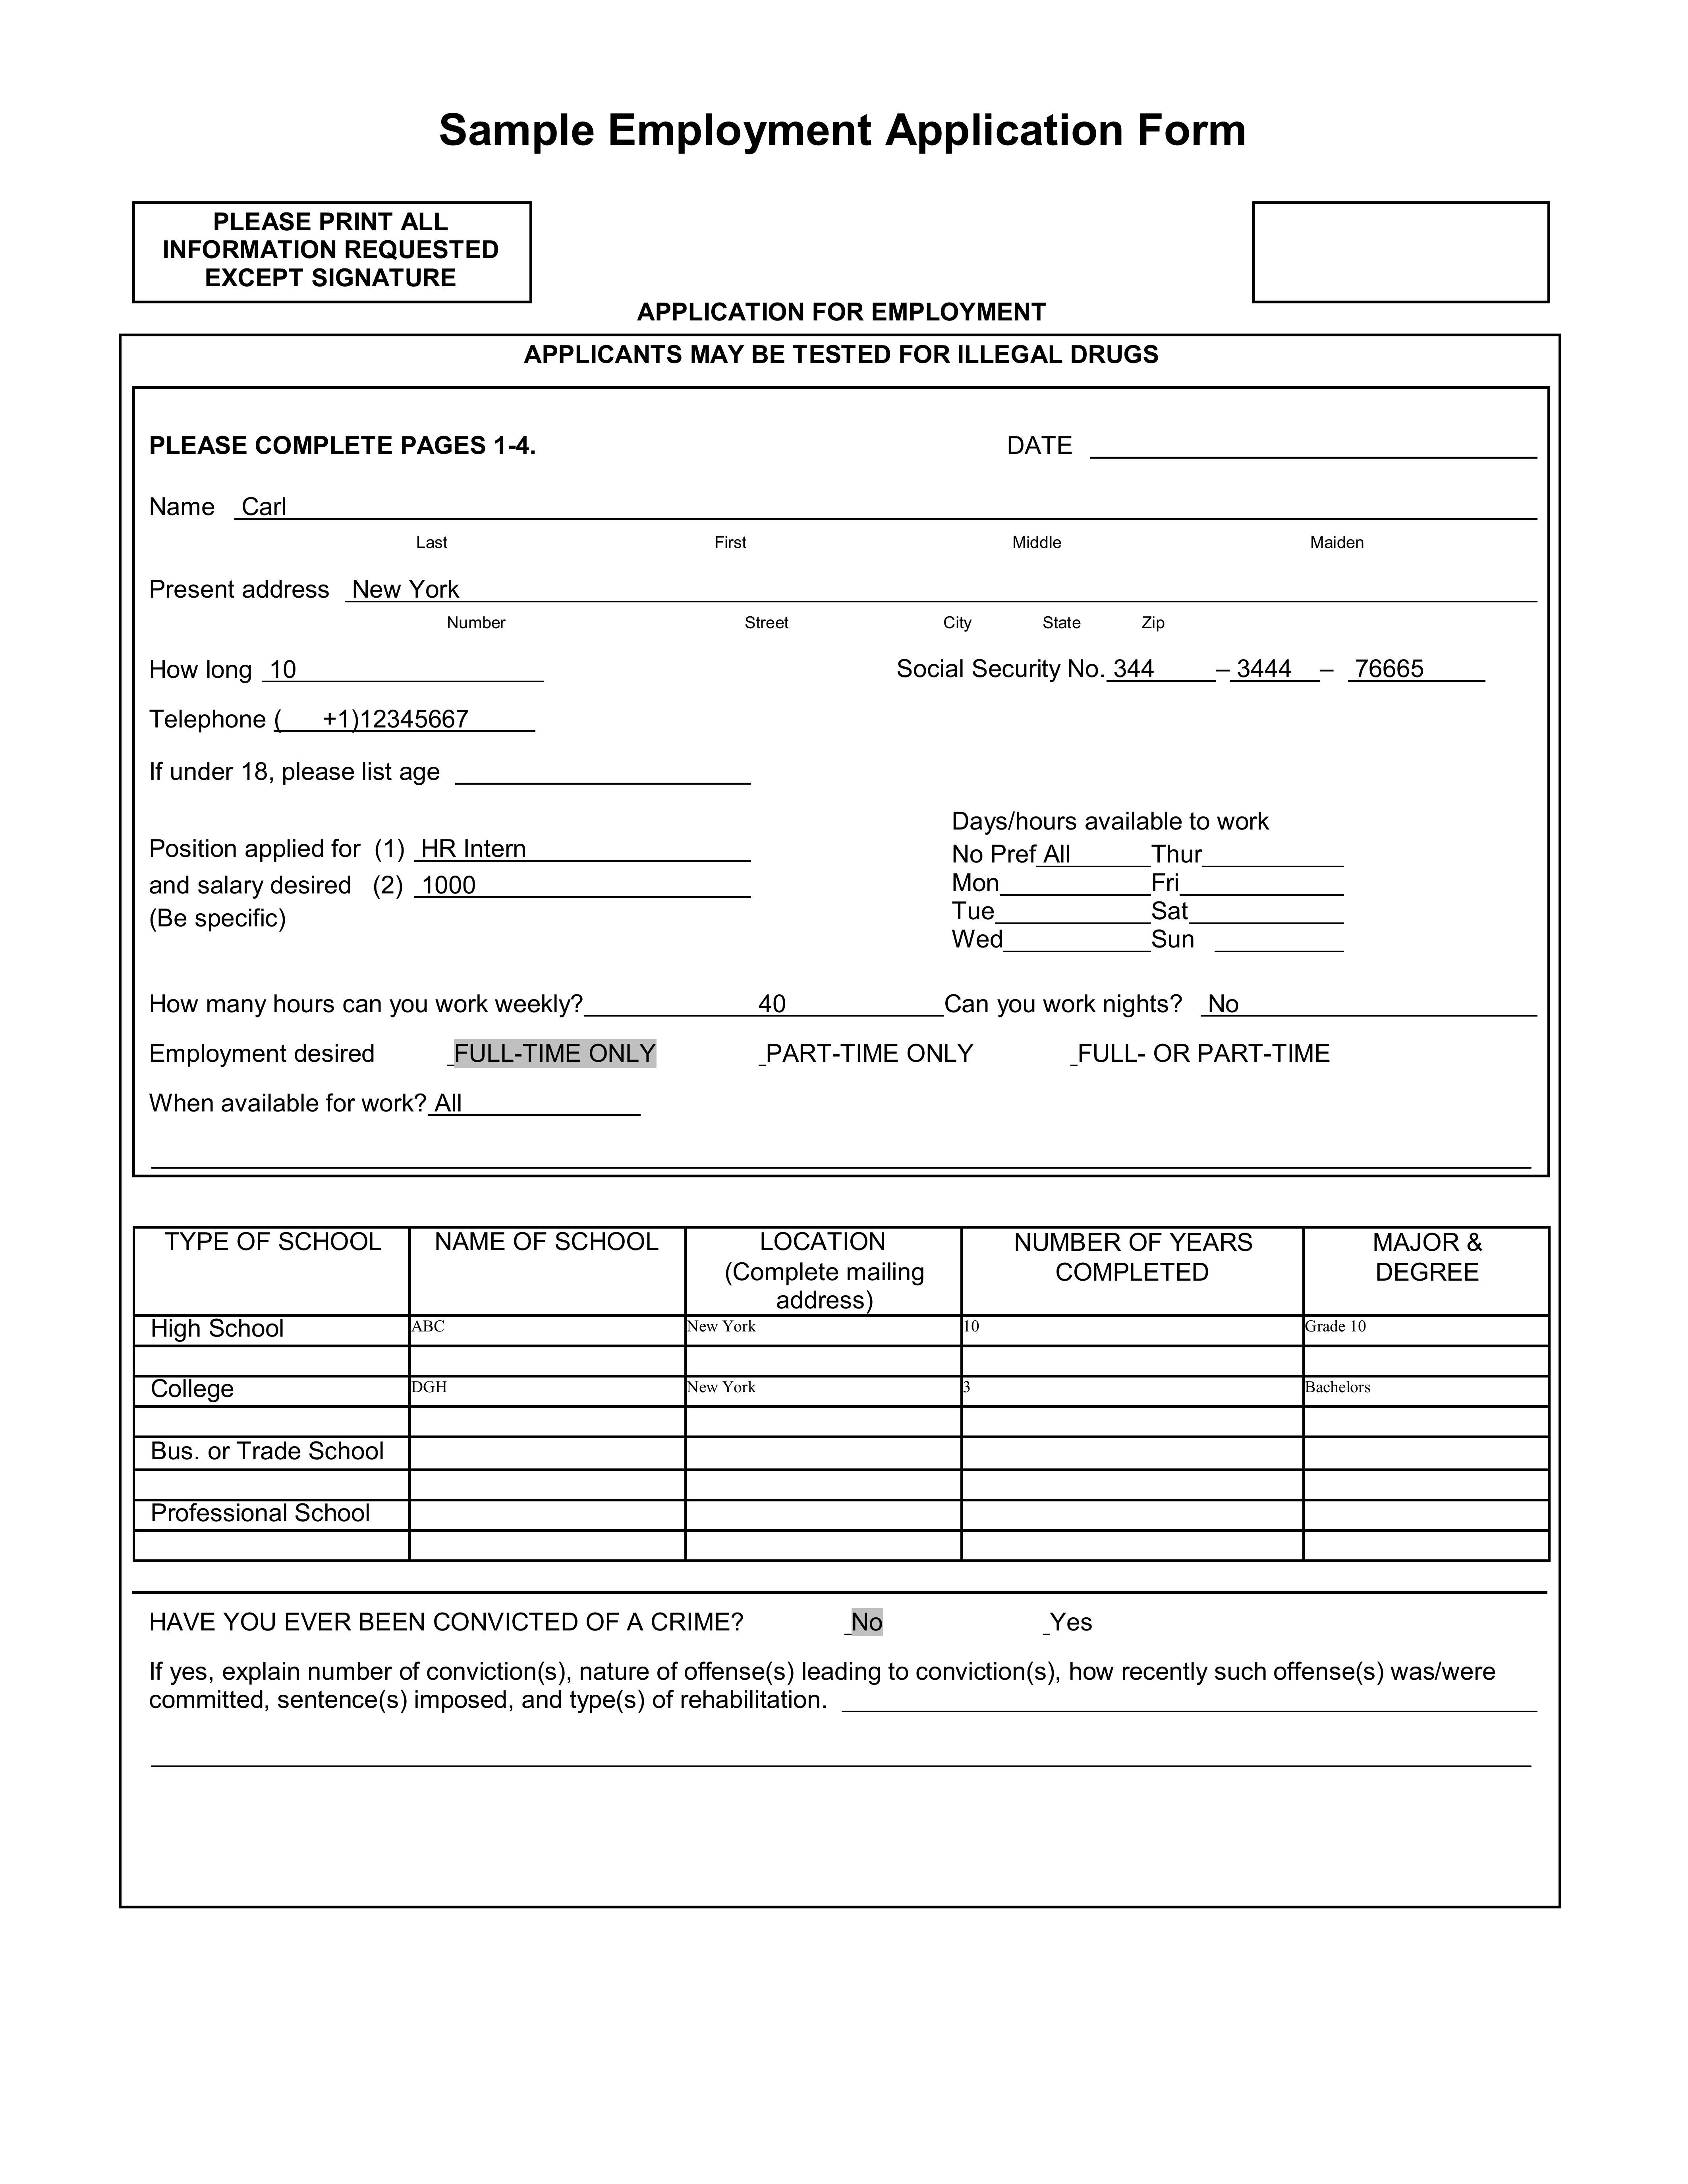table: (137, 386, 1548, 1181), (135, 1230, 1543, 1562)
